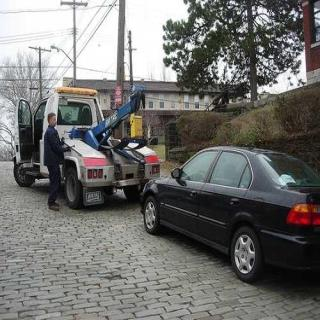Towing_truck: (11, 84, 160, 210)
